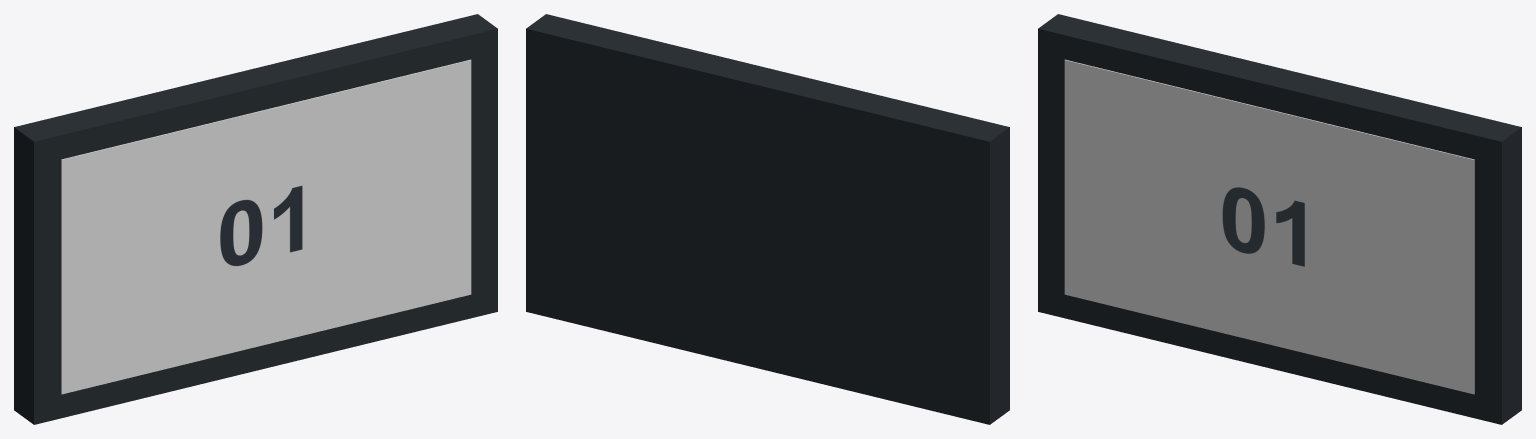
Rendered from doorPlaque-3.glb.
3 views of the same model, side by side, from view 1: azimuth 30°, elevation 25°; view 2: azimuth 150°, elevation 25°; view 3: azimuth 330°, elevation 25° (orthographic).
Visible parts, largest first — view 1: doorPlaque_Frosted label insert, doorPlaque_Graphite edge profile, DoorPlaque_Label; view 2: doorPlaque_Graphite edge profile; view 3: doorPlaque_Frosted label insert, doorPlaque_Graphite edge profile, DoorPlaque_Label.
Part boxes in pixels (x1,y1,x2,y2): doorPlaque_Frosted label insert: [61, 59, 471, 394]; doorPlaque_Graphite edge profile: [14, 14, 497, 424]; DoorPlaque_Label: [220, 186, 302, 265]; doorPlaque_Graphite edge profile: [526, 14, 1009, 424]; doorPlaque_Frosted label insert: [1064, 59, 1474, 394]; doorPlaque_Graphite edge profile: [1038, 14, 1521, 424]; DoorPlaque_Label: [1222, 187, 1304, 266].
Bounding box in the file's own units: 0.24 × 0.14 × 0.0187.
Materials: 4 (1 with a texture image).
